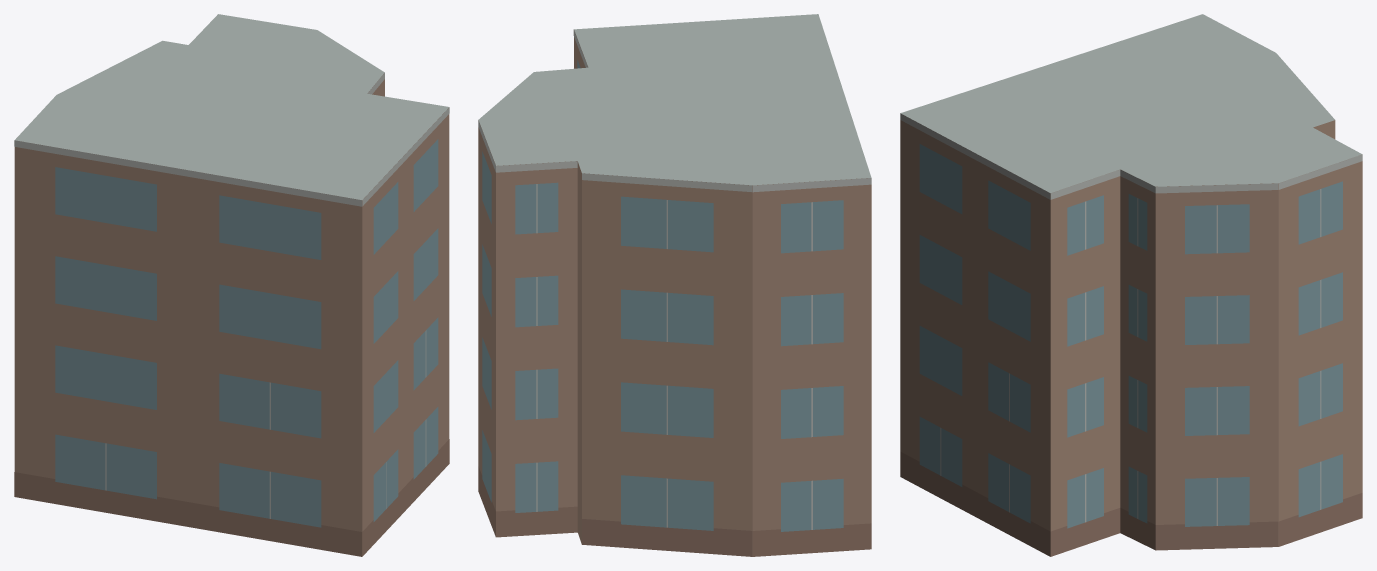
The model's file is survey-upis-32695831.glb.
3 renders of one model, left to right at view 1: azimuth 30°, elevation 25°; view 2: azimuth 150°, elevation 25°; view 3: azimuth 270°, elevation 25°, orthographic. The views are drawn at different scales.
Parts seen in each view (by area): view 1: survey-upis-32695831.tmp; view 2: survey-upis-32695831.tmp; view 3: survey-upis-32695831.tmp.
Boxes of the visible parts, <box> form: survey-upis-32695831.tmp: <box>14,14,449,556</box>; survey-upis-32695831.tmp: <box>478,14,871,556</box>; survey-upis-32695831.tmp: <box>900,14,1362,556</box>.
Bounding box in the file's own units: 14.02 × 13.25 × 15.28.
